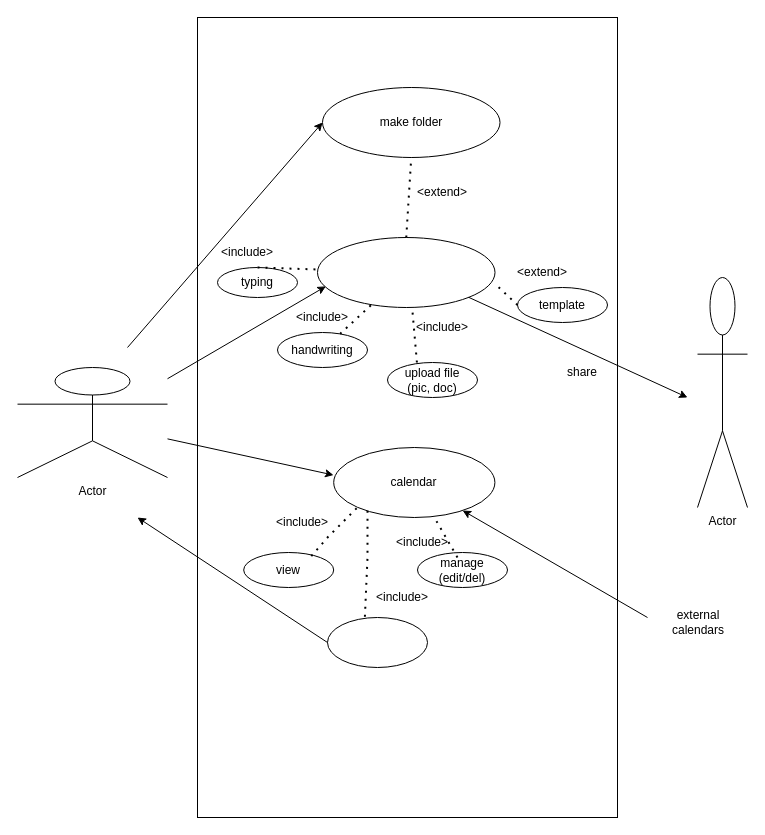
Image size: 765x835. Some labels were removed from this diagram. Each missing label, with the centre of its shape:
make notes: the point at 405,272
set reminder: the point at 377,642
